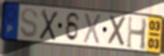6: (64, 12, 81, 43)
H: (125, 15, 149, 52)
S: (19, 7, 39, 40)
X: (108, 14, 129, 48), (82, 12, 103, 46), (38, 8, 59, 42)
